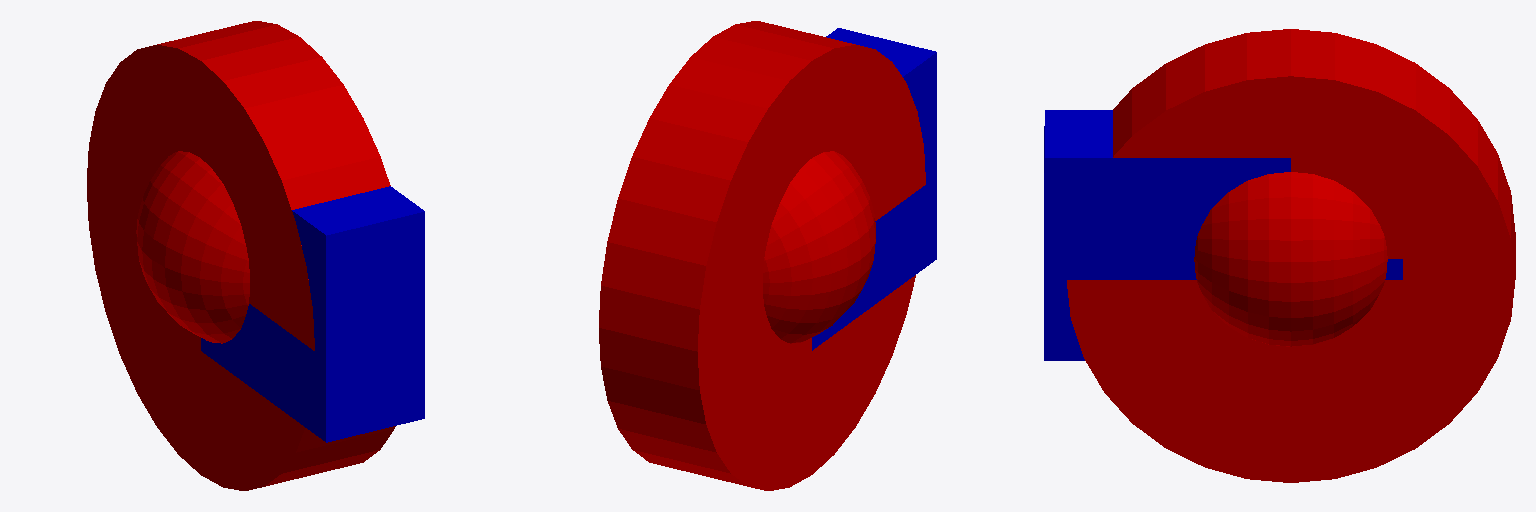
robot.urdf — TwoLinkStruct7893393446:
<?xml version="1.0"?>
<robot  name="TwoLinkStruct7893393446" >
 <material  name="blue" >
  <color  rgba="0 0 0.8 1.0" />
 </material>
 <material  name="red" >
  <color  rgba="0.8 0 0 1.0" />
 </material>
 <link  name="base_link" >
  <visual >
   <origin  rpy="0 1.5707 0"  xyz="0 0 0" />
   <material  name="red" />
   <geometry >
    <cylinder  length="0.05"  radius="0.1" />
   </geometry>
  </visual>
 </link>
 <joint  type="revolute"  name="joint1" >
  <parent  link="base_link" />
  <child  link="link1" />
  <origin  xyz="0 0 0"  rpy="0 0 0" />
  <axis  xyz="1 0 0" />
 </joint>
 <link  name="link1" >
  <inertial >
   <origin  rpy="0 0 0"  xyz="0 0 0.005" />
   <mass  value="0.037494773864746096" />
   <inertia  ixy="0.0"  iyy="1.562282244364421e-05"  izz="8.123867670694987e-06"  ixz="0.0"  ixx="8.123867670694987e-06"  iyz="0.0" />
  </inertial>
  <visual >
   <origin  rpy="0 0 0"  xyz="0 0 0.005" />
   <material  name="blue" />
   <geometry >
    <box  size="0.05 0.1 0.01" />
   </geometry>
  </visual>
 </link>
 <joint  type="fixed"  name="joint-joint-1" >
  <parent  link="link1" />
  <child  link="joint-link-1" />
  <origin  xyz="0 0 0.01"  rpy="1.5707 0 0" />
  <axis  xyz="1 0 0" />
 </joint>
 <link  name="joint-link-1" >
  <inertial >
   <origin  rpy="0 0 0"  xyz="0 0 0" />
   <mass  value="1.2215432075431332" />
   <inertia  ixy="0"  iyy="0"  izz="0"  ixz="0"  ixx="0"  iyz="0" />
  </inertial>
  <visual >
   <origin  rpy="0 0 0"  xyz="0 0 0" />
   <material  name="red" />
   <geometry >
    <sphere  radius="0.05" />
   </geometry>
  </visual>
 </link>
 <joint  type="revolute"  name="joint2" >
  <parent  link="link1" />
  <child  link="link2" />
  <origin  xyz="0 0 0.01"  rpy="1.5707 0 0" />
  <axis  xyz="1 0 0" />
 </joint>
 <link  name="link2" >
  <inertial >
   <origin  rpy="0 0 0"  xyz="0 0 0.05490131472761339" />
   <mass  value="0.3911586994038366" />
   <inertia  ixy="0.0"  iyy="1.562282244364421e-05"  izz="4.5483089914292725e-05"  ixz="0.0"  ixx="4.5483089914292725e-05"  iyz="0.0" />
  </inertial>
  <visual >
   <origin  rpy="0 0 0"  xyz="0 0 0.05490131472761339" />
   <material  name="blue" />
   <geometry >
    <box  size="0.05 0.1 0.10980262945522679" />
   </geometry>
  </visual>
 </link>
 <joint  type="fixed"  name="eef_joint" >
  <parent  link="link2" />
  <child  link="eef" />
  <origin  xyz="0 0 0.10980262945522679"  rpy="0 0 0" />
 </joint>
 <link  name="eef" >
  <inertial >
   <origin  rpy="0 0 0"  xyz="0 0 0" />
   <mass  value="1" />
   <inertia  ixy="0"  iyy="0"  izz="0"  ixz="0"  ixx="0"  iyz="0" />
  </inertial>
 </link>
 <transmission  name="motor1" >
  <type  xmltext="SimpleTransmission" >
   SimpleTransmission
  </type>
  <actuator  name="motor1" >
   <mechanicalreduction  xmltext="1" >
    1
   </mechanicalreduction>
  </actuator>
  <joint  name="joint1" />
 </transmission>
 <transmission  name="motor2" >
  <type  xmltext="SimpleTransmission" >
   SimpleTransmission
  </type>
  <actuator  name="motor2" >
   <mechanicalreduction  xmltext="1" >
    1
   </mechanicalreduction>
  </actuator>
  <joint  name="joint2" />
 </transmission>
</robot>

<!-- {'carti': array([-0.1 ,  0.14,  0.85]), 'cartd': array([-0.1 ,  0.32,  1.29]), 'tau_mu': 0.7821695398423643, 'b0': 0.024815908297967232, 'Km': 4.46661085944093, 'k_velocity': 50.090506367002156, 'tau_max_m': 2.883889180188533, 'omega_max_m': 2540.707495842876, 'gear_ratio': 15.035149086214913, 'Kp': 18.900227882020495, 'Kd': 91.43654998457878, 'm_m': 1.2215432075431332, 'l1': 0.01, 'l2': 0.10980262945522679, 'k1': 11281.83518262113, 'k2': 152859552.86101475, 'k3': 326923954.4846848}-->

--- What the picture shows (computed from the rendered views, not written in the file) ---
3 views of the same robot in one strip: view 1: azimuth 30°, elevation 25°; view 2: azimuth 150°, elevation 25°; view 3: azimuth 270°, elevation 25° (orthographic).
Model TwoLinkStruct7893393446 with 5 links and 4 joints (2 revolute, 2 fixed), rooted at base_link, posed all joints at 0.
Links seen in each view (by area): view 1: base_link, link2, joint-link-1; view 2: base_link, joint-link-1, link2; view 3: base_link, link2, joint-link-1.
Boxes of the visible links, x1=… form: base_link: x1=87, y1=21, x2=395, y2=490; link2: x1=201, y1=186, x2=424, y2=442; joint-link-1: x1=136, y1=151, x2=249, y2=343; base_link: x1=599, y1=21, x2=925, y2=490; joint-link-1: x1=763, y1=151, x2=875, y2=343; link2: x1=812, y1=28, x2=936, y2=350; base_link: x1=1067, y1=29, x2=1515, y2=482; link2: x1=1044, y1=110, x2=1290, y2=360; joint-link-1: x1=1194, y1=172, x2=1387, y2=346.
Bounding box of the posed robot: 0.1 × 0.2098 × 0.2 m (x, y, z).
Geometry: primitives only (box / cylinder / sphere), no mesh files.
